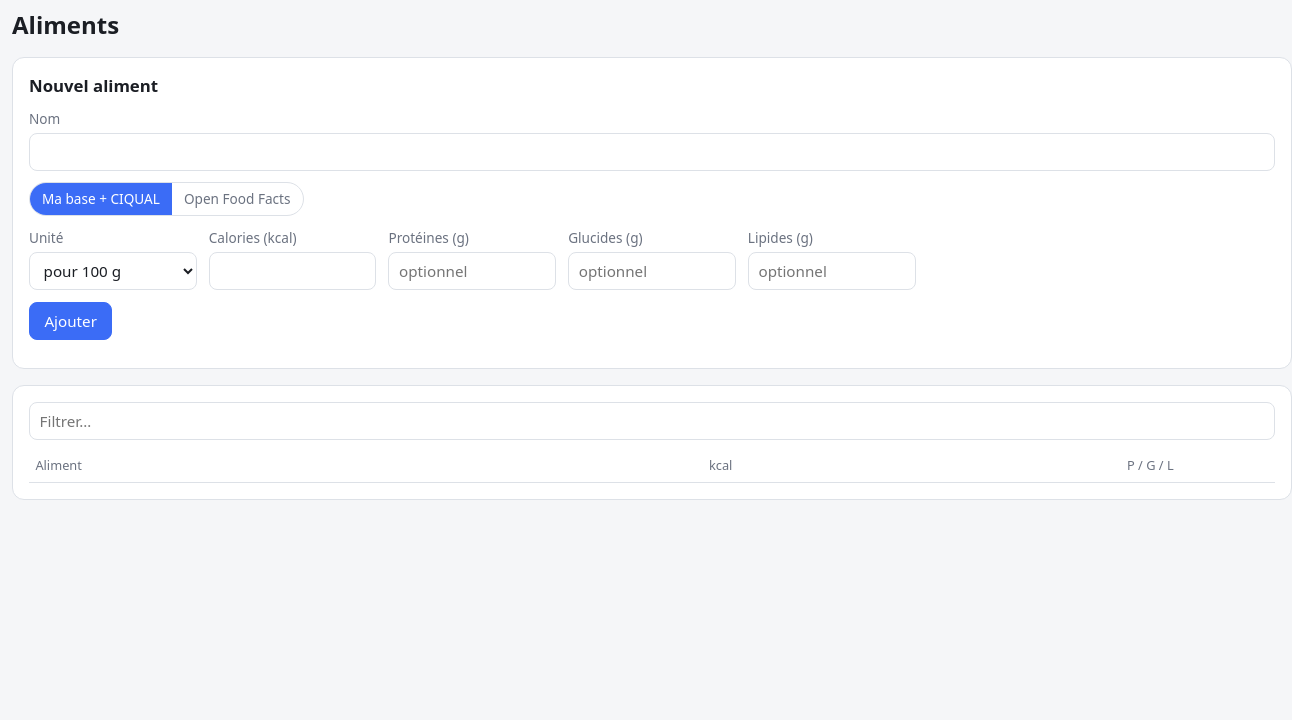
it: Foods › préremplit le formulaire depuis un résultat de recherche
Type "thon" into the field labelled "Nom" at (652, 152), box [29, 133, 1275, 171]
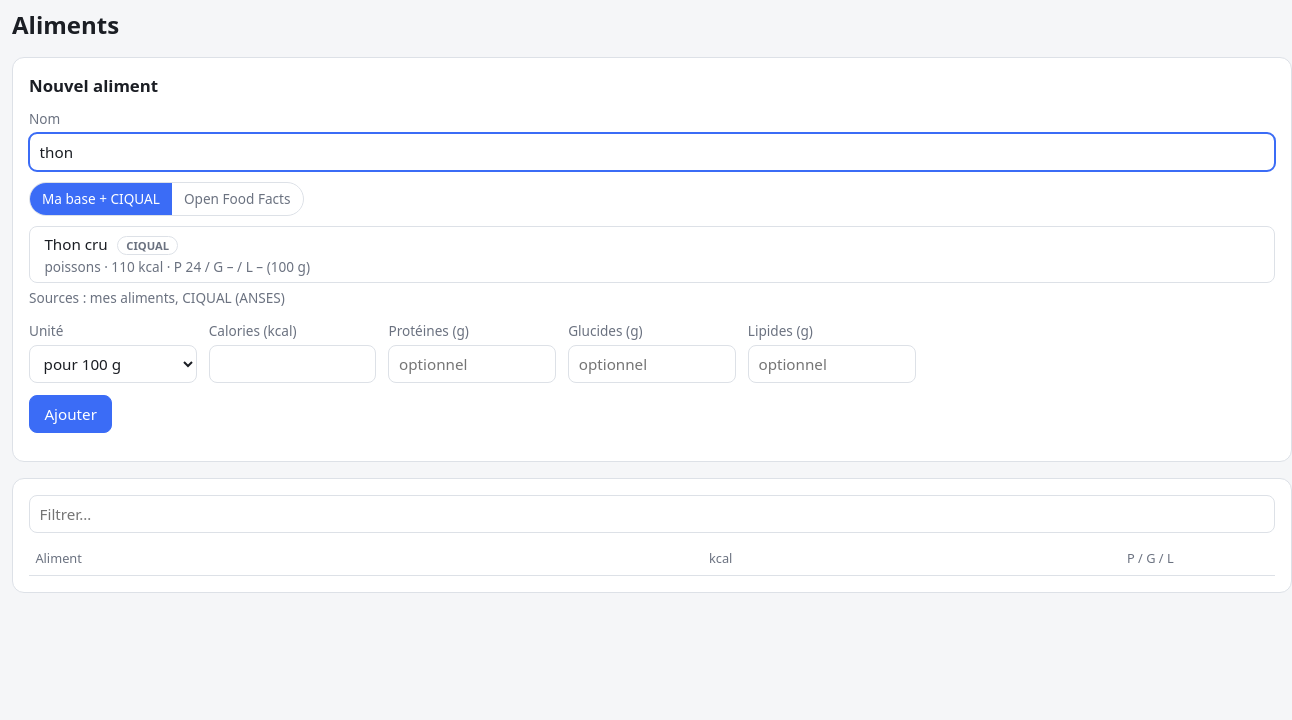
Click the button "Thon cru" at (76, 244), box [29, 226, 1275, 283]
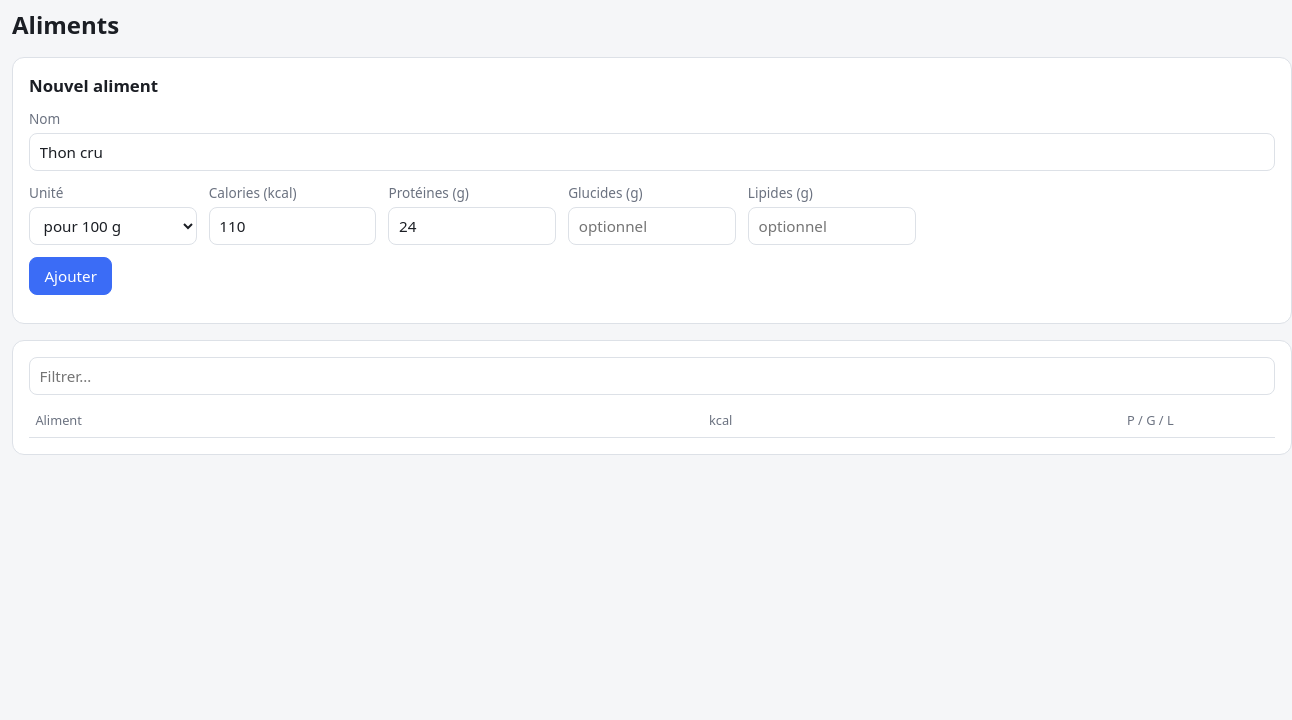
Expected: the field labelled "Nom" holds "Thon cru", [29, 133, 1275, 171]
Expected: the field labelled "Calories (kcal)" holds "110", [209, 207, 376, 245]
